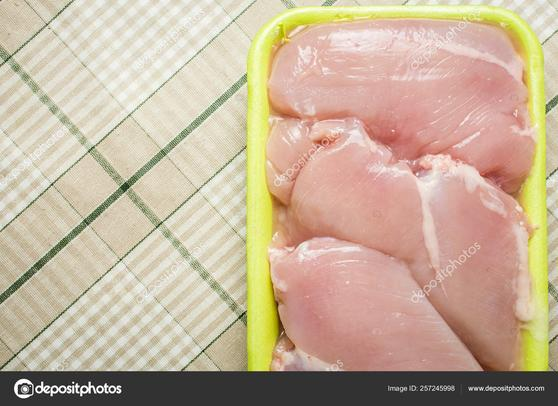chicken_fillet: (305, 124, 541, 361), (278, 17, 544, 179), (262, 248, 481, 375)
